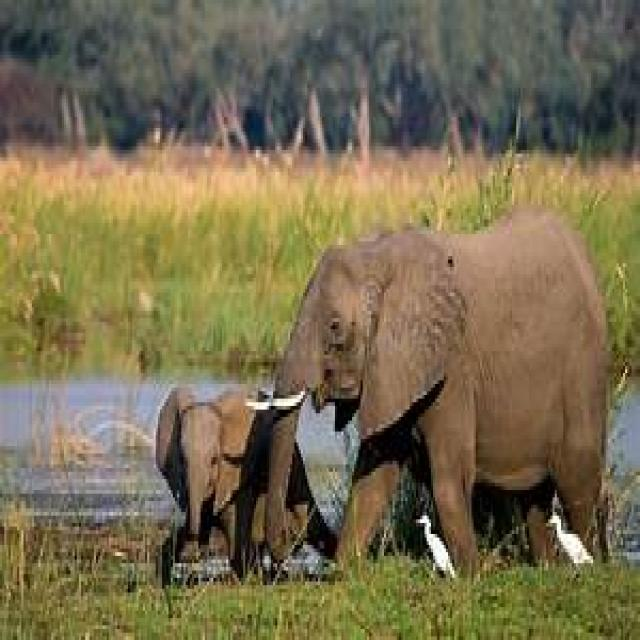elephant: (273, 208, 608, 574), (154, 388, 256, 571)
